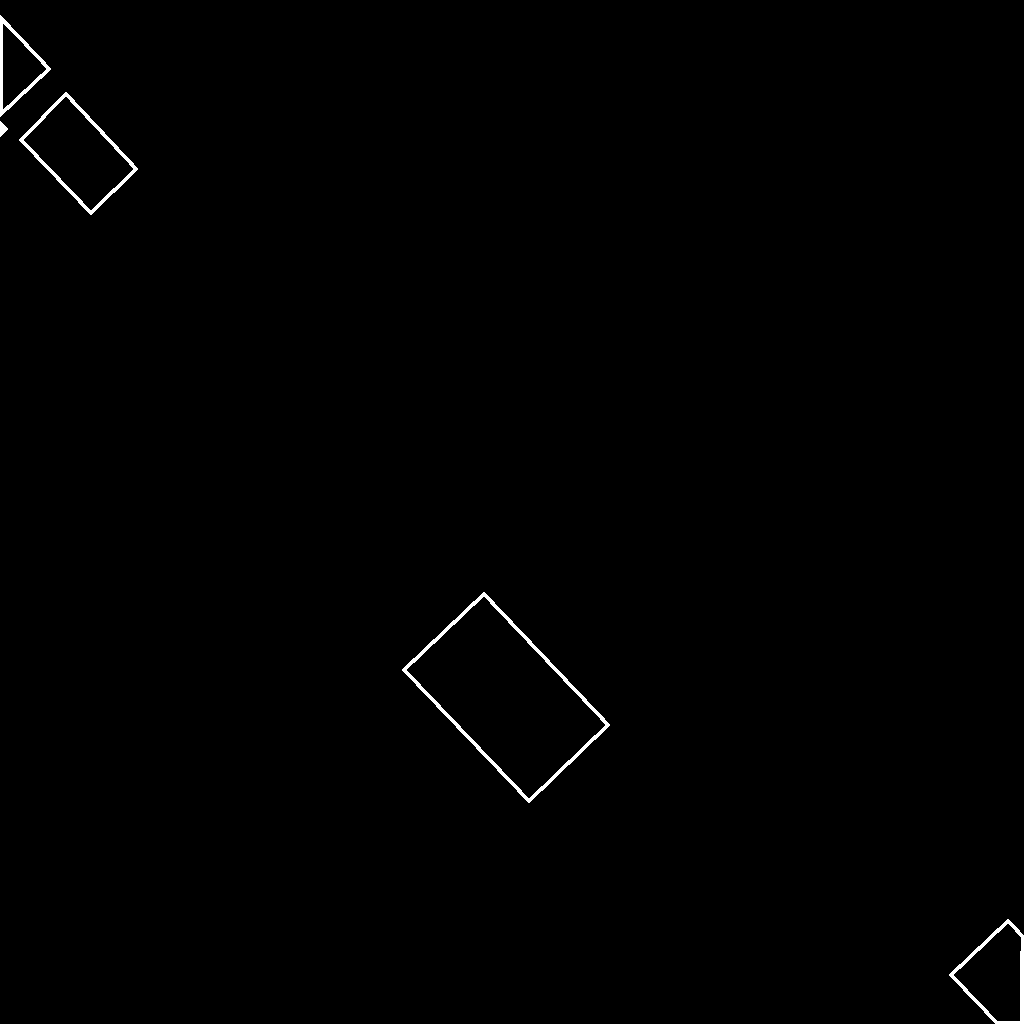building: (404, 594, 609, 802), (21, 94, 137, 214), (951, 921, 1024, 1024), (0, 17, 50, 136)
